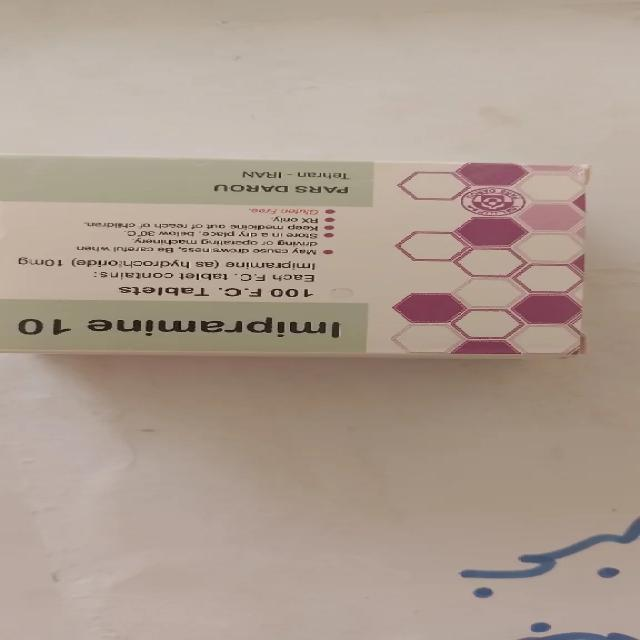drug-name: (18, 315, 356, 343)
